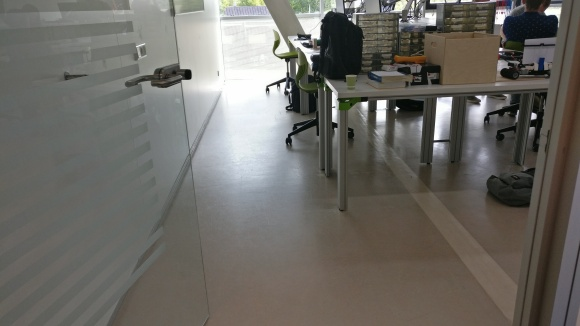cup: (344, 72, 358, 90)
